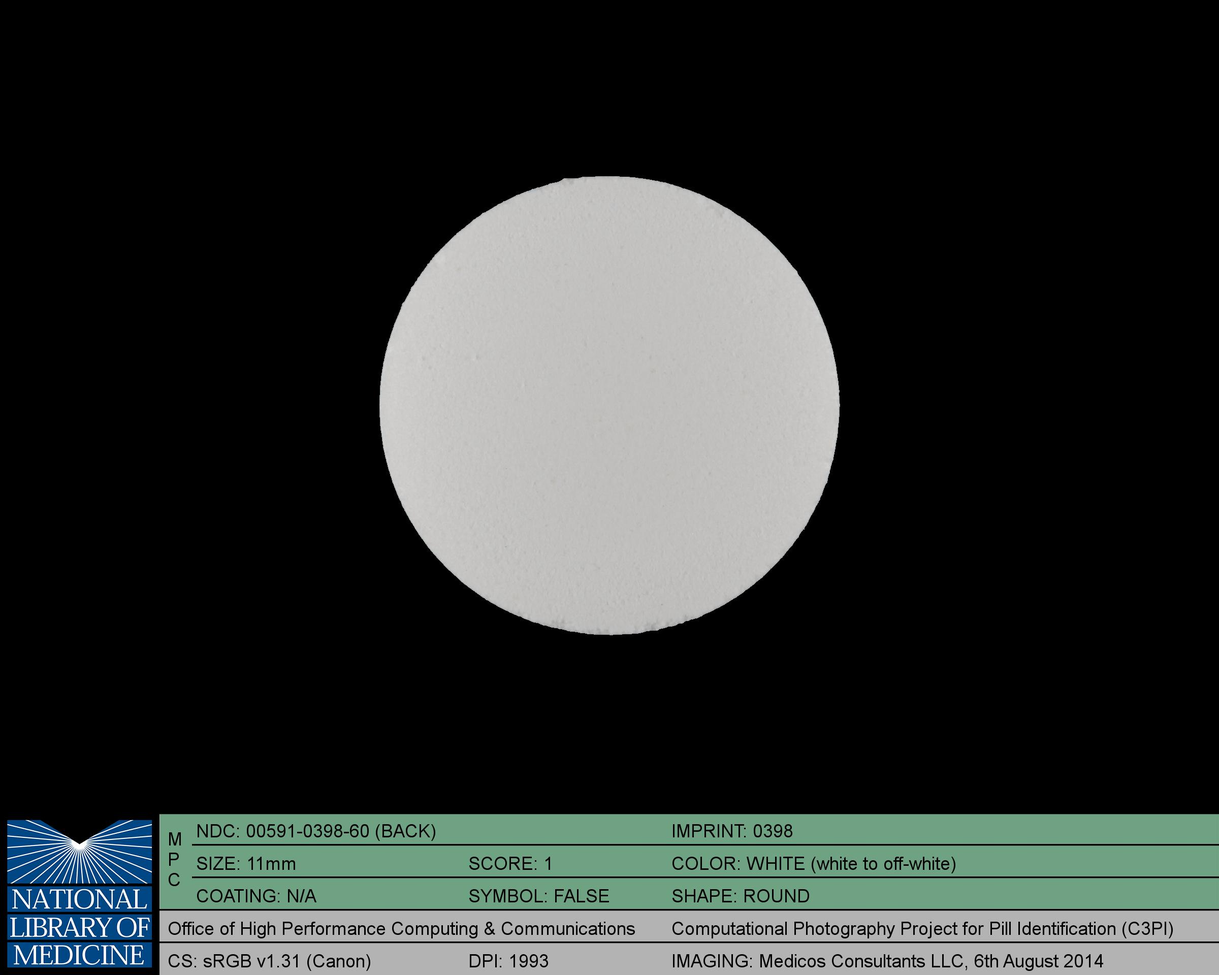Pill: (366, 159, 855, 648)
